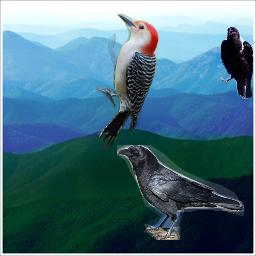Crow: (117, 145, 244, 240), (220, 26, 254, 100)
Woodpecker: (96, 13, 159, 148)
